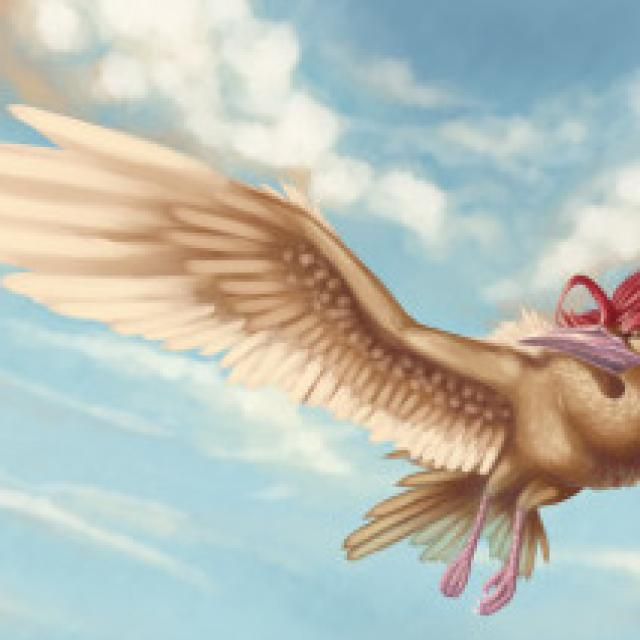Fearow: (283, 214, 636, 609)
